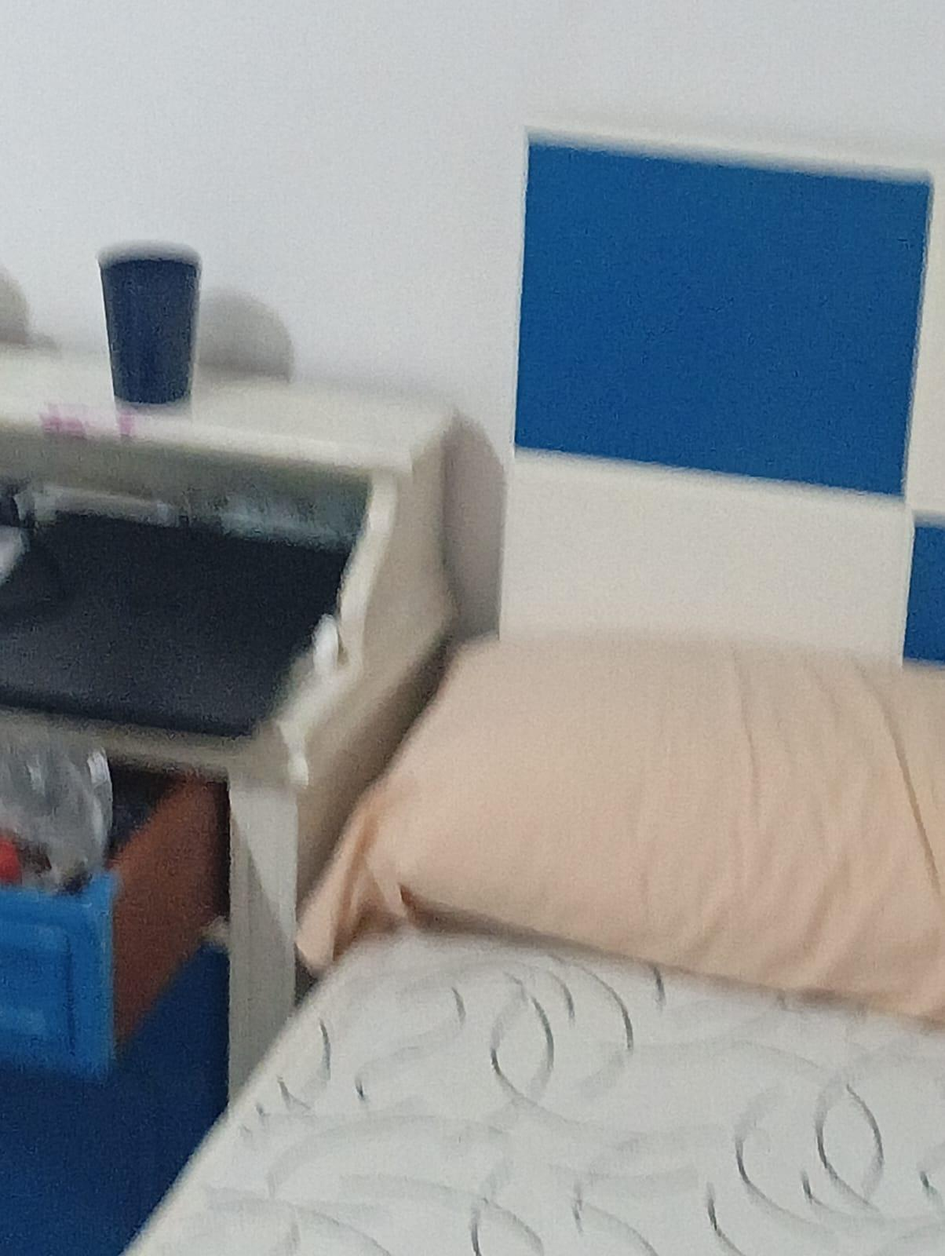cup: (99, 247, 199, 404)
